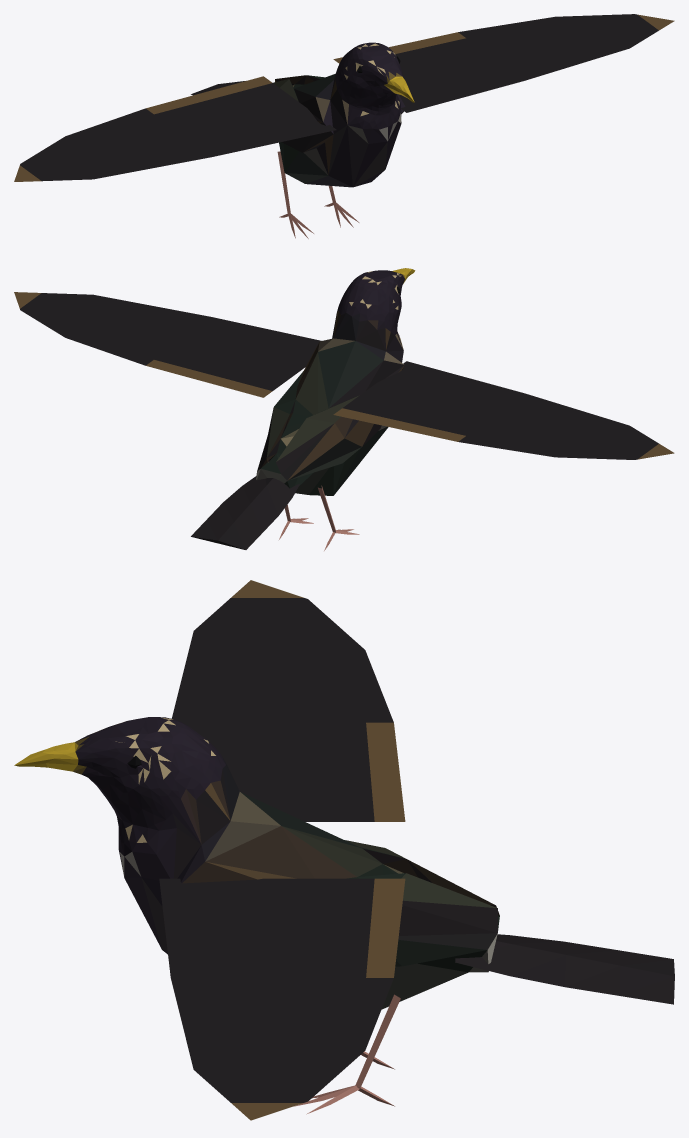
Rendered from starling.glb.
The picture shows the model from 3 angles, top to bottom: view 1: azimuth 30°, elevation 25°; view 2: azimuth 150°, elevation 25°; view 3: azimuth 270°, elevation 25°; orthographic projection. The views are drawn at different scales.
Visible parts, largest first — view 1: lod0; view 2: lod0; view 3: lod0.
Boxes of the visible parts, x1,y1,x2,y2 form: lod0: (14, 14, 674, 238); lod0: (14, 268, 674, 550); lod0: (14, 580, 674, 1120).
Size of what is drawn, in the model's own units: 0.38 by 0.119 by 0.1963.
